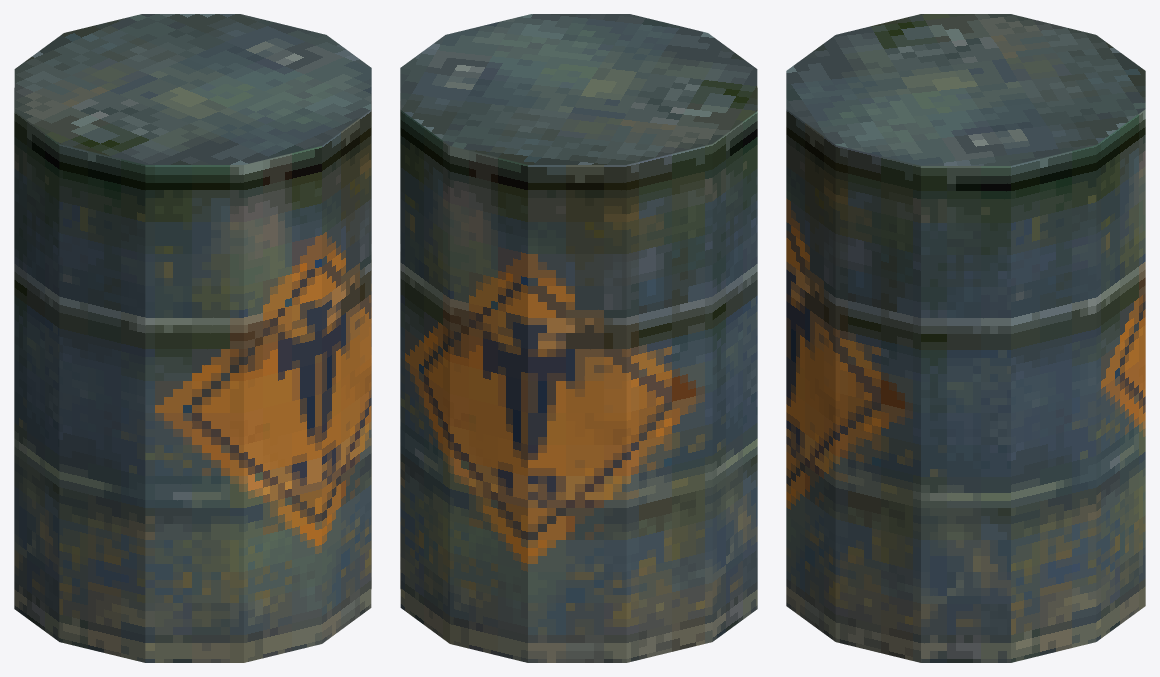
File: X_Barrel01.obj
The picture shows the model from 3 angles, left to right: view 1: azimuth 30°, elevation 25°; view 2: azimuth 150°, elevation 25°; view 3: azimuth 270°, elevation 25°; orthographic projection.
Visible parts, largest first — view 1: Node 1; view 2: Node 1; view 3: Node 1.
Part boxes in pixels (x1,y1,x2,y2): Node 1: [14, 14, 371, 662]; Node 1: [400, 14, 757, 662]; Node 1: [786, 14, 1145, 662].
Bounding box in the file's own units: 0.8 × 1.26 × 0.8.
3 materials, 3 textured.
